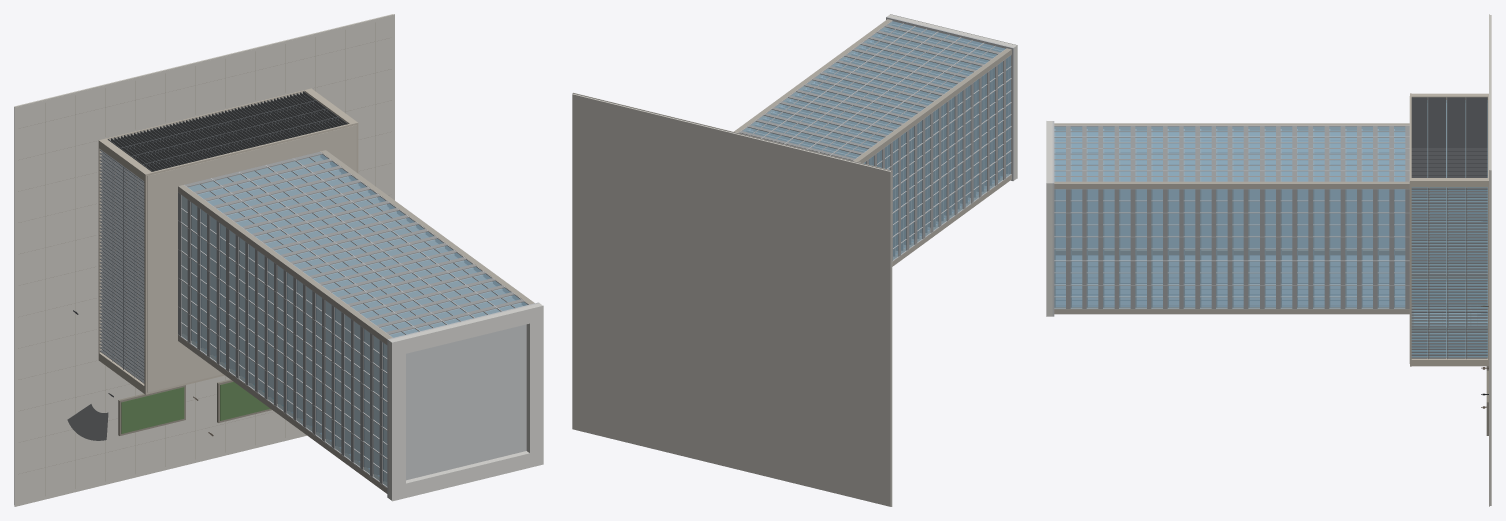
Rendered from High-Rise-Tower.obj.
The picture shows the model from 3 angles, left to right: view 1: azimuth 30°, elevation 25°; view 2: azimuth 150°, elevation 25°; view 3: azimuth 270°, elevation 25°; orthographic projection. The views are drawn at different scales.
Parts seen in each view (by area): view 1: Site_Plaza, Tower_Glazing, Floor_Plates, Tower_Spandrels, Podium_Fins, Roof, Podium_Terrace, Roof_Parapet, Tower_Mullions, Podium_Walls, Tower_Corner_Piers, Landscape_Planting (+4 smaller); view 2: Site_Plaza, Tower_Glazing, Floor_Plates, Tower_Spandrels, Tower_Mullions, Tower_Corner_Piers, Roof, Roof_Parapet; view 3: Tower_Glazing, Tower_Spandrels, Podium_Fins, Tower_Mullions, Podium_Glazing, Tower_Corner_Piers, Floor_Plates, Podium_Walls, Site_Plaza, Roof_Parapet, Roof.
Boxes of the visible parts, bbox=[...] form: Site_Plaza: bbox=[14, 14, 394, 506]; Tower_Glazing: bbox=[181, 154, 527, 486]; Floor_Plates: bbox=[135, 162, 522, 481]; Tower_Spandrels: bbox=[178, 151, 523, 483]; Podium_Fins: bbox=[99, 91, 347, 383]; Roof: bbox=[387, 302, 539, 497]; Podium_Terrace: bbox=[147, 125, 356, 392]; Roof_Parapet: bbox=[388, 303, 543, 501]; Tower_Mullions: bbox=[178, 151, 528, 487]; Podium_Walls: bbox=[98, 88, 358, 394]; Tower_Corner_Piers: bbox=[178, 150, 534, 493]; Landscape_Planting: bbox=[121, 381, 270, 433]; Site_Plaza: bbox=[572, 92, 892, 506]; Tower_Glazing: bbox=[743, 21, 1010, 259]; Floor_Plates: bbox=[746, 24, 1007, 256]; Tower_Spandrels: bbox=[739, 25, 1005, 260]; Tower_Mullions: bbox=[739, 20, 1011, 261]; Tower_Corner_Piers: bbox=[734, 19, 1011, 266]; Roof: bbox=[886, 16, 1014, 180]; Roof_Parapet: bbox=[887, 14, 1017, 179]; Tower_Glazing: bbox=[1054, 126, 1405, 308]; Tower_Spandrels: bbox=[1066, 126, 1409, 308]; Podium_Fins: bbox=[1411, 97, 1487, 358]; Tower_Mullions: bbox=[1054, 125, 1409, 309]; Podium_Glazing: bbox=[1411, 100, 1487, 357]; Tower_Corner_Piers: bbox=[1054, 123, 1409, 314]; Floor_Plates: bbox=[1054, 129, 1467, 356]; Podium_Walls: bbox=[1410, 93, 1488, 366]; Site_Plaza: bbox=[1489, 14, 1491, 506]; Roof_Parapet: bbox=[1046, 121, 1052, 316]; Roof: bbox=[1052, 121, 1054, 316].
Size of the model in its own units: 82.3 by 82.8 by 99.23.
